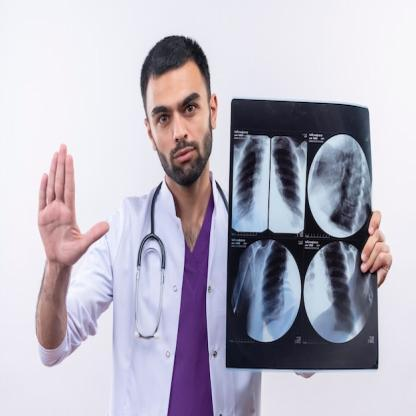stop: (33, 136, 110, 272)
